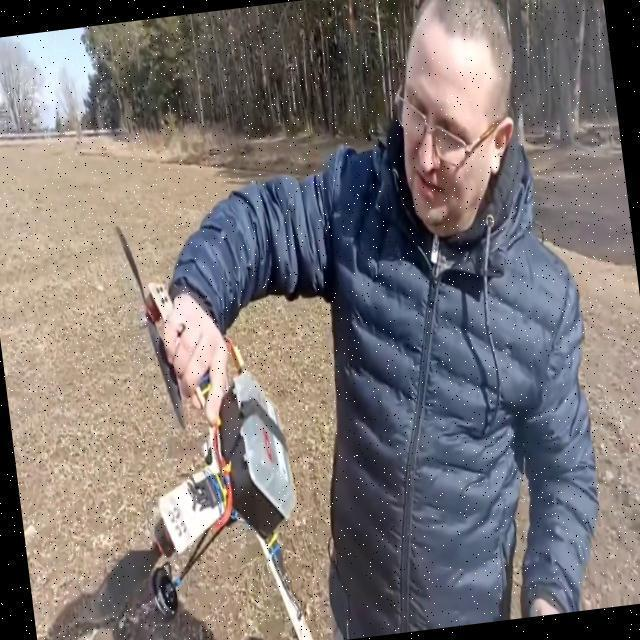Drons: (93, 195, 334, 640)
